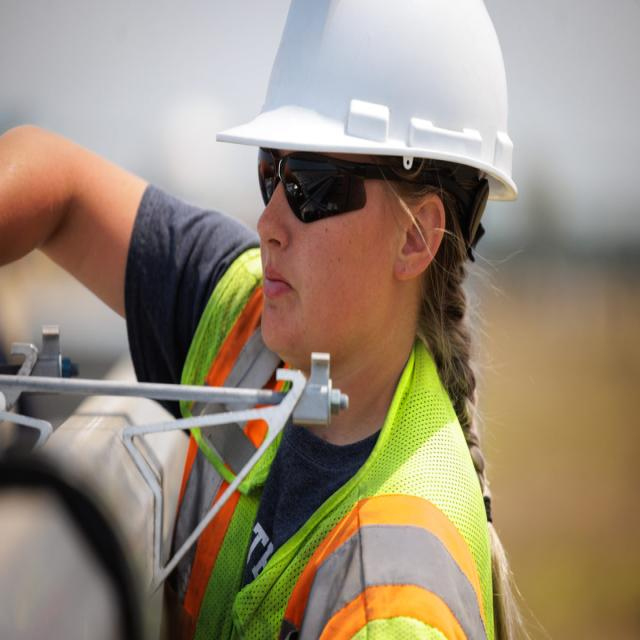helmet: (208, 0, 526, 218), (236, 132, 410, 228)
vest: (168, 228, 499, 640)
